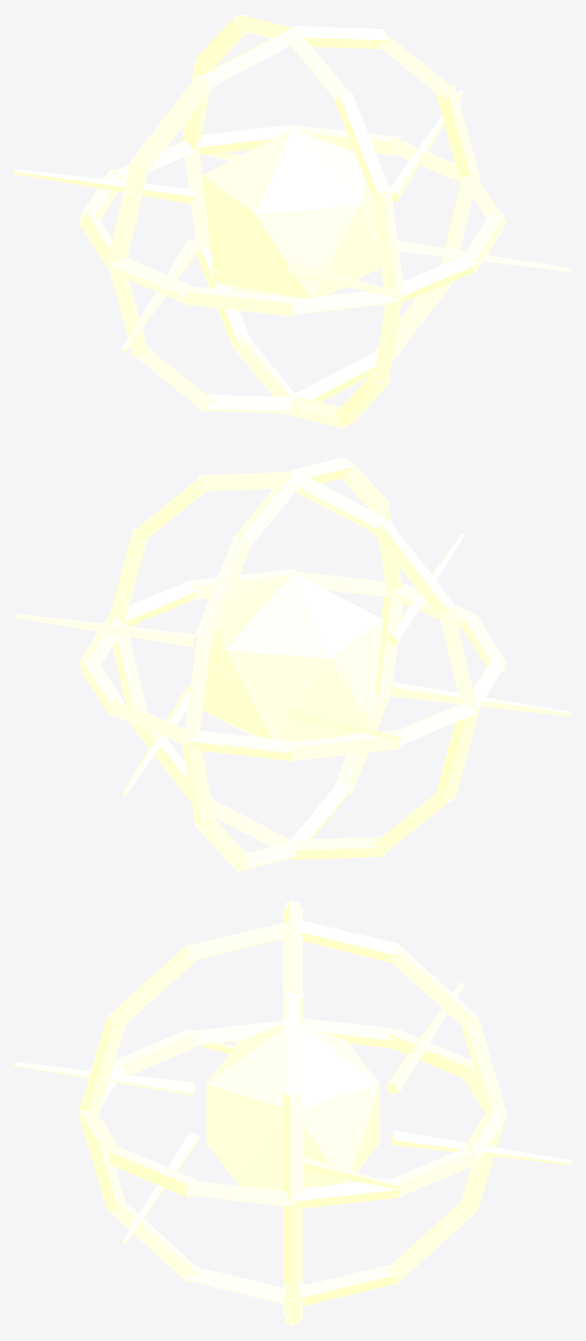
The model's file is Proj_AegisEMP.fbx.
3 renders of one model, top to bottom at view 1: azimuth 30°, elevation 25°; view 2: azimuth 150°, elevation 25°; view 3: azimuth 270°, elevation 25°, orthographic.
Parts seen in each view (by area): view 1: PEMP_Core, PEMP_Ring0, PEMP_Ring1, PEMP_Ring2, PEMP_Arc2, PEMP_Arc4, PEMP_Arc5, PEMP_Arc3, PEMP_Arc0; view 2: PEMP_Core, PEMP_Ring0, PEMP_Ring1, PEMP_Ring2, PEMP_Arc0, PEMP_Arc3, PEMP_Arc2, PEMP_Arc1, PEMP_Arc4; view 3: PEMP_Ring1, PEMP_Core, PEMP_Ring2, PEMP_Ring0, PEMP_Arc1, PEMP_Arc4, PEMP_Arc2, PEMP_Arc0, PEMP_Arc5.
Part boxes in pixels (x1,y1,x2,y2): PEMP_Core: (202,128,380,298); PEMP_Ring0: (106,25,479,413); PEMP_Ring1: (182,14,403,428); PEMP_Ring2: (78,124,506,316); PEMP_Arc2: (14,169,194,203); PEMP_Arc4: (287,262,403,297); PEMP_Arc5: (397,240,571,271); PEMP_Arc3: (122,240,199,351); PEMP_Arc0: (390,90,463,202); PEMP_Core: (202,572,383,741); PEMP_Ring0: (109,470,479,859); PEMP_Ring1: (182,457,402,871); PEMP_Ring2: (79,569,506,761); PEMP_Arc0: (14,613,195,647); PEMP_Arc3: (390,682,571,716); PEMP_Arc2: (288,707,403,741); PEMP_Arc1: (121,685,190,795); PEMP_Arc4: (385,534,463,646); PEMP_Ring1: (79,918,507,1306); PEMP_Core: (206,1024,379,1190); PEMP_Ring2: (79,1018,506,1208); PEMP_Ring0: (283,900,302,1326); PEMP_Arc1: (391,1130,571,1164); PEMP_Arc4: (14,1062,195,1095); PEMP_Arc2: (386,982,464,1094); PEMP_Arc0: (303,1157,403,1190); PEMP_Arc5: (122,1132,199,1244).
Size of the model in its own units: 0.4074 by 0.336 by 0.4375.
